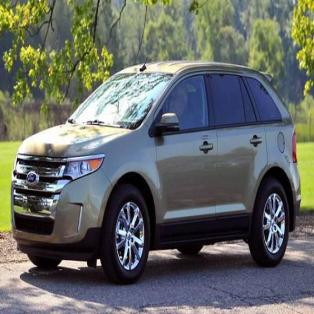Auto: (10, 43, 303, 286)
